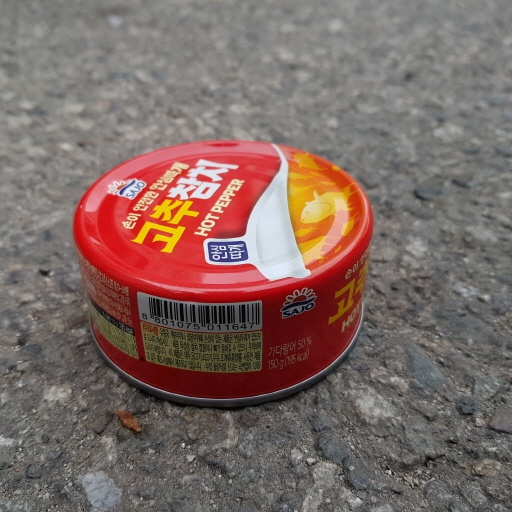Metal_1: (71, 137, 377, 406)
